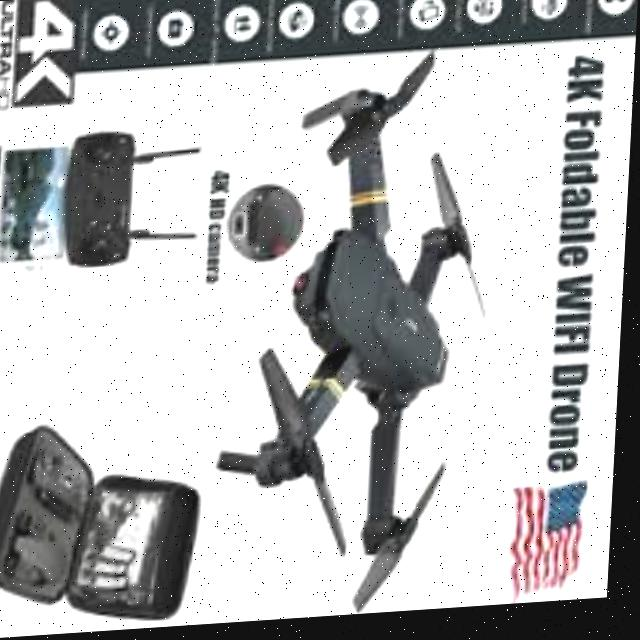drone: (202, 59, 508, 628)
